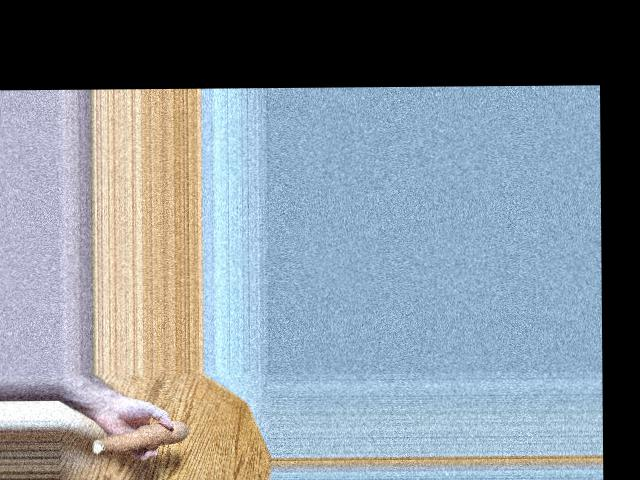sweet_potato: (84, 425, 193, 456)
